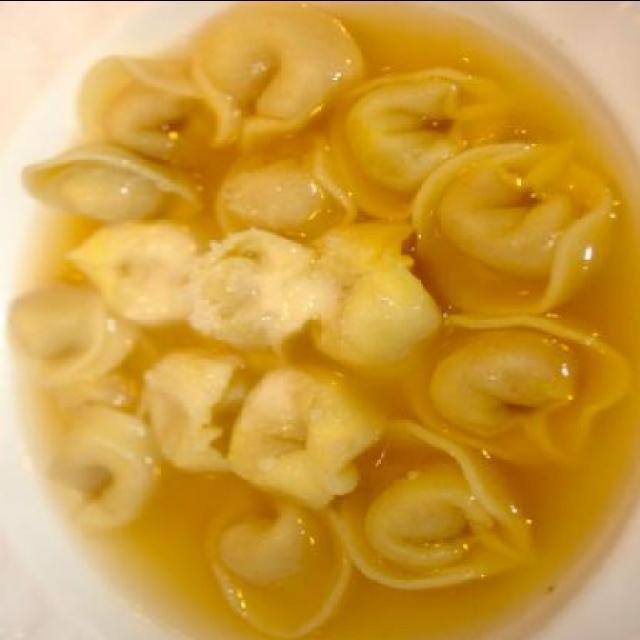Tortellini in broth: (42, 36, 586, 579)
